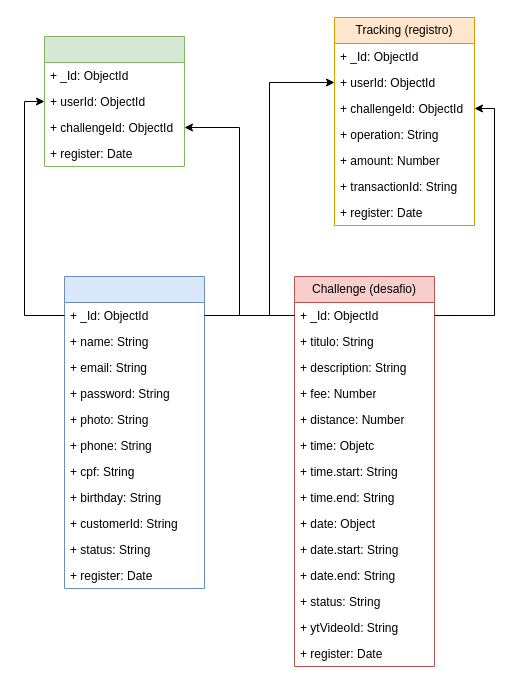
Image size: 520x687. Some labels were removed from this diagram. The box of each missing label's shape, as (x1, y1, x2, y2) in pixels:
UserChallenge: (44, 36, 184, 166)
Users (colections): (64, 276, 204, 588)
